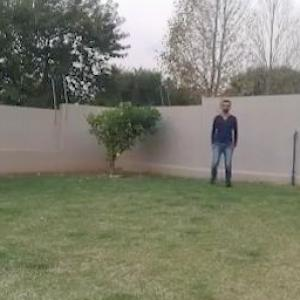follow: (214, 102, 236, 184)
